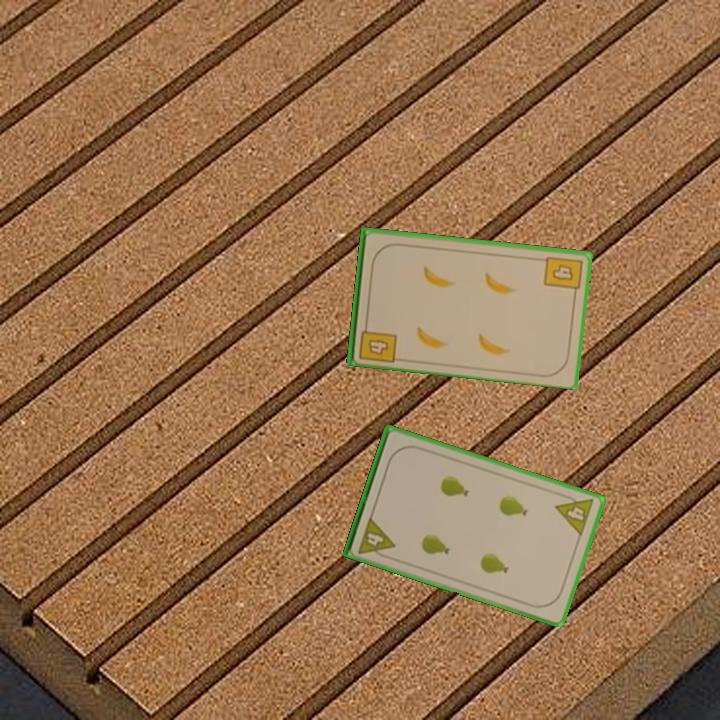4b: (355, 317, 399, 365), (540, 253, 585, 298)
4p: (552, 489, 597, 539), (354, 513, 398, 562)
